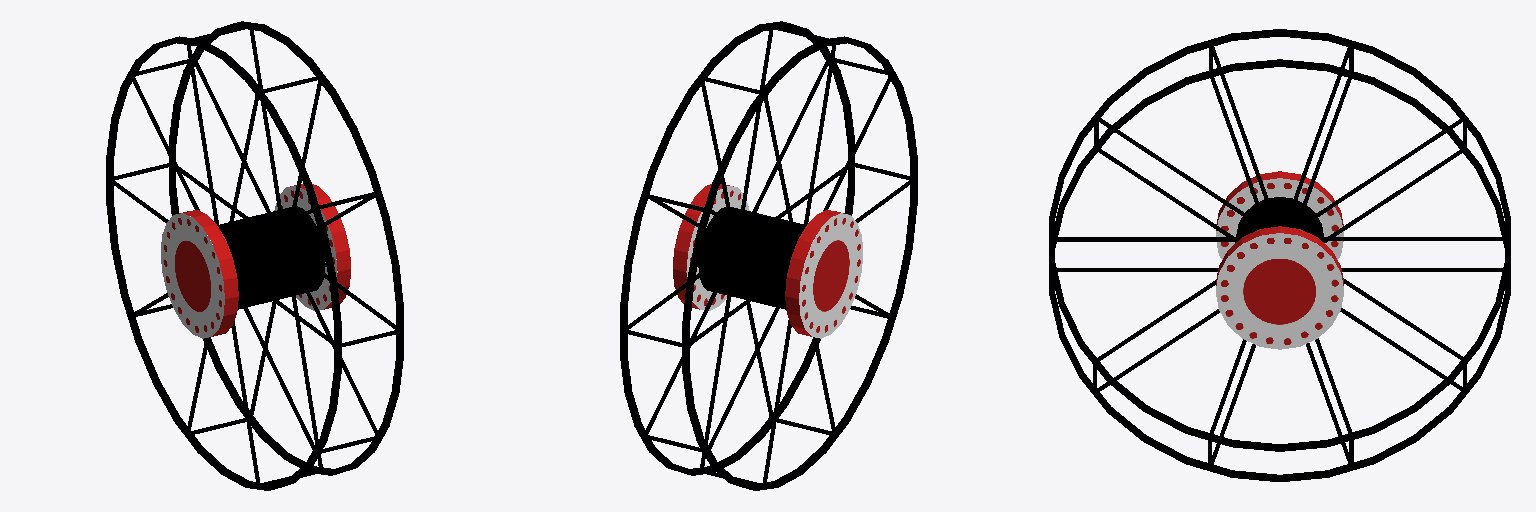
The picture shows the model from 3 angles: view 1: azimuth 30°, elevation 25°; view 2: azimuth 150°, elevation 25°; view 3: azimuth 270°, elevation 25°; orthographic projection.
Visible parts, largest first — view 1: group1 noria:pasted__pPipe1, group1 noria:pasted__pCylinder2, group1 noria:pasted__pCylinder1, group1 noria:pPipe1, noria:pCylinder2 group1, group1 noria:pasted__pasted__pasted__pCylinder1, group1 noria:pasted__pasted__pasted__pCylinder3, group1 noria:pasted__pasted__pCylinder6, group1 noria:pasted__pCylinder6, group1 noria:pasted__pasted__pasted__pasted__pCylinder3, group1 noria:pasted__pasted__pasted__pCylinder5, group1 noria:pasted__pasted__pCylinder1 (+3 smaller); view 2: group1 noria:pasted__pPipe1, group1 noria:pasted__pCylinder2, group1 noria:pPipe1, group1 noria:pasted__pCylinder1, noria:pCylinder2 group1, group1 noria:pasted__pasted__pasted__pasted__pCylinder1, group1 noria:pasted__pasted__pasted__pCylinder6, group1 noria:pasted__pasted__pasted__pasted__pasted__pasted__pCy, group1 noria:pasted__pasted__pasted__pasted__pasted__pCylinder3, group1 noria:pasted__pasted__pasted__pasted__pCylinder5, group1 noria:pasted__pasted__pasted__pasted__pCylinder4, group1 noria:pasted__pasted__pasted__pasted__pasted__pCylinder1 (+3 smaller); view 3: noria:pCylinder2 group1, group1 noria:pPipe1, group1 noria:pasted__pPipe1, group1 noria:pasted__pCylinder2, group1 noria:pasted__pCylinder1, group1 noria:pasted__pasted__pCylinder3, group1 noria:pasted__pasted__pasted__pasted__pasted__pCylinder1, group1 noria:pasted__pasted__pCylinder1, group1 noria:pasted__pasted__pasted__pasted__pCylinder5, group1 noria:pasted__pCylinder6, group1 noria:pasted__pCylinder3, group1 noria:pasted__pasted__pasted__pCylinder6 (+11 smaller).
Part boxes in pixels (bbox=[...]): group1 noria:pasted__pPipe1: bbox=[106, 36, 341, 490]; group1 noria:pasted__pCylinder2: bbox=[161, 210, 238, 338]; group1 noria:pasted__pCylinder1: bbox=[218, 206, 325, 309]; group1 noria:pPipe1: bbox=[169, 21, 403, 475]; noria:pCylinder2 group1: bbox=[274, 184, 350, 310]; group1 noria:pasted__pasted__pasted__pCylinder1: bbox=[187, 45, 218, 225]; group1 noria:pasted__pasted__pasted__pCylinder3: bbox=[241, 301, 314, 449]; group1 noria:pasted__pasted__pCylinder6: bbox=[250, 30, 281, 210]; group1 noria:pasted__pCylinder6: bbox=[194, 61, 270, 212]; group1 noria:pasted__pasted__pasted__pasted__pCylinder3: bbox=[231, 321, 259, 483]; group1 noria:pasted__pasted__pasted__pCylinder5: bbox=[292, 296, 322, 467]; group1 noria:pasted__pasted__pCylinder1: bbox=[131, 76, 199, 210]; group1 noria:pasted__pPipe1: bbox=[682, 36, 917, 490]; group1 noria:pasted__pCylinder2: bbox=[785, 210, 862, 338]; group1 noria:pPipe1: bbox=[620, 21, 854, 475]; group1 noria:pasted__pCylinder1: bbox=[698, 207, 804, 309]; noria:pCylinder2 group1: bbox=[673, 184, 749, 310]; group1 noria:pasted__pasted__pasted__pasted__pCylinder1: bbox=[804, 45, 835, 226]; group1 noria:pasted__pasted__pasted__pCylinder6: bbox=[741, 30, 772, 210]; group1 noria:pasted__pasted__pasted__pasted__pasted__pasted__pCy: bbox=[708, 300, 782, 448]; group1 noria:pasted__pasted__pasted__pasted__pasted__pCylinder3: bbox=[763, 320, 791, 483]; group1 noria:pasted__pasted__pasted__pasted__pCylinder5: bbox=[752, 60, 829, 212]; group1 noria:pasted__pasted__pasted__pasted__pCylinder4: bbox=[700, 296, 730, 468]; group1 noria:pasted__pasted__pasted__pasted__pasted__pCylinder1: bbox=[823, 75, 892, 210]; noria:pCylinder2 group1: bbox=[1216, 226, 1343, 349]; group1 noria:pPipe1: bbox=[1049, 59, 1510, 481]; group1 noria:pasted__pPipe1: bbox=[1049, 29, 1510, 451]; group1 noria:pasted__pCylinder2: bbox=[1216, 171, 1343, 259]; group1 noria:pasted__pCylinder1: bbox=[1236, 197, 1323, 240]; group1 noria:pasted__pasted__pCylinder3: bbox=[1057, 237, 1236, 241]; group1 noria:pasted__pasted__pasted__pasted__pasted__pCylinder1: bbox=[1099, 118, 1249, 218]; group1 noria:pasted__pasted__pCylinder1: bbox=[1311, 119, 1461, 219]; group1 noria:pasted__pasted__pasted__pasted__pCylinder5: bbox=[1098, 149, 1238, 242]; group1 noria:pasted__pCylinder6: bbox=[1322, 150, 1461, 242]; group1 noria:pasted__pCylinder3: bbox=[1323, 237, 1502, 240]; group1 noria:pasted__pasted__pasted__pCylinder6: bbox=[1210, 77, 1267, 227].
Size of the model in its own units: 2.71 by 8.63 by 8.59.
12 materials, 1 textured.